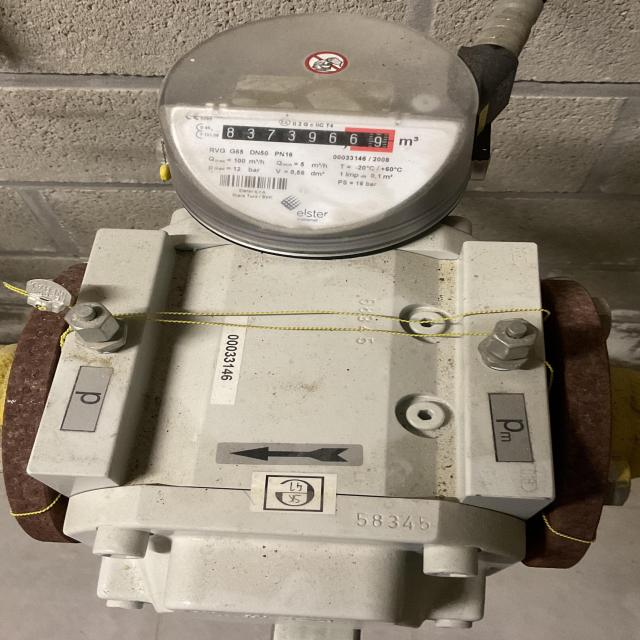gaz_meter: (162, 10, 480, 237)
indication: (222, 125, 390, 148)
